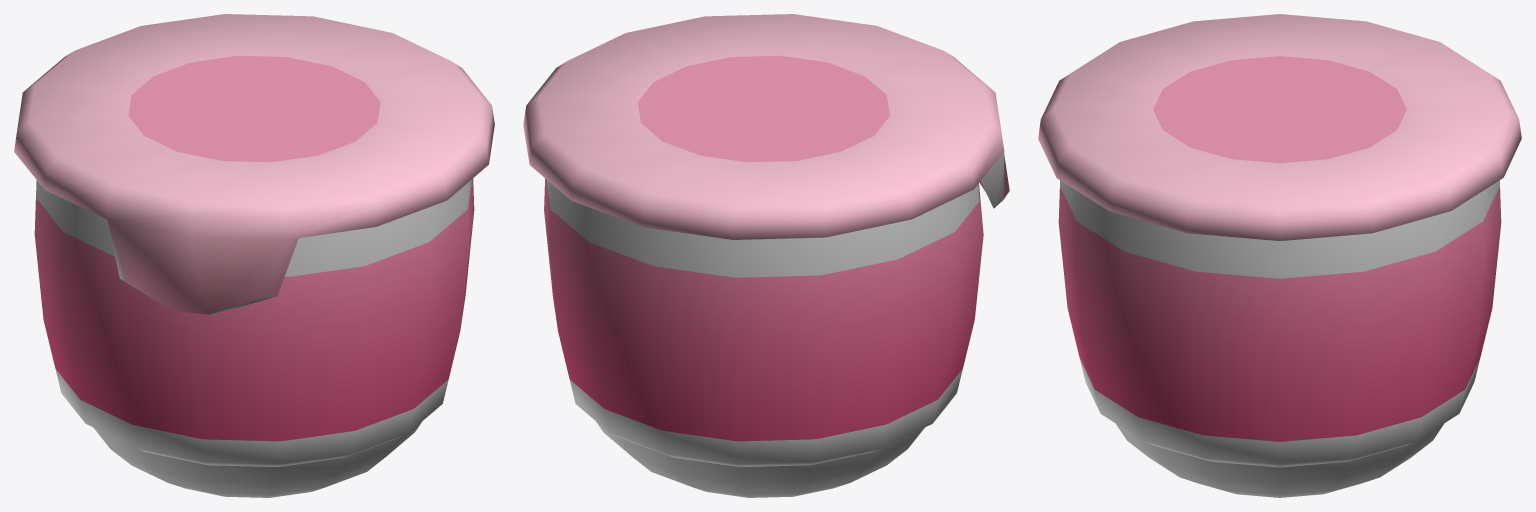
The model's file is sour_cream_001.fbx.
3 renders of one model, left to right at view 1: azimuth 30°, elevation 25°; view 2: azimuth 150°, elevation 25°; view 3: azimuth 270°, elevation 25°, orthographic.
Visible parts, largest first — view 1: sour_cream_001; view 2: sour_cream_001; view 3: sour_cream_001.
Part boxes in pixels (left/top/right/bottom): sour_cream_001: left=14, top=14, right=494, bottom=497; sour_cream_001: left=523, top=14, right=1009, bottom=497; sour_cream_001: left=1038, top=14, right=1521, bottom=497.
Bounding box in the file's own units: 7.62 × 7.62 × 5.91.
